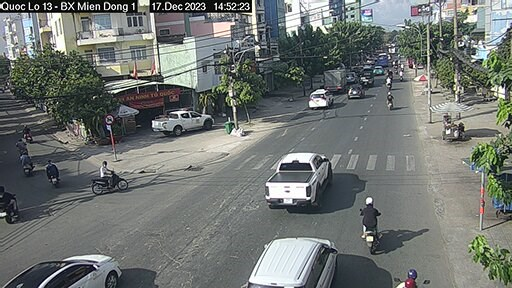car: (251, 222, 348, 288), (267, 143, 338, 205), (144, 103, 218, 135), (358, 199, 379, 251), (305, 86, 330, 114)
